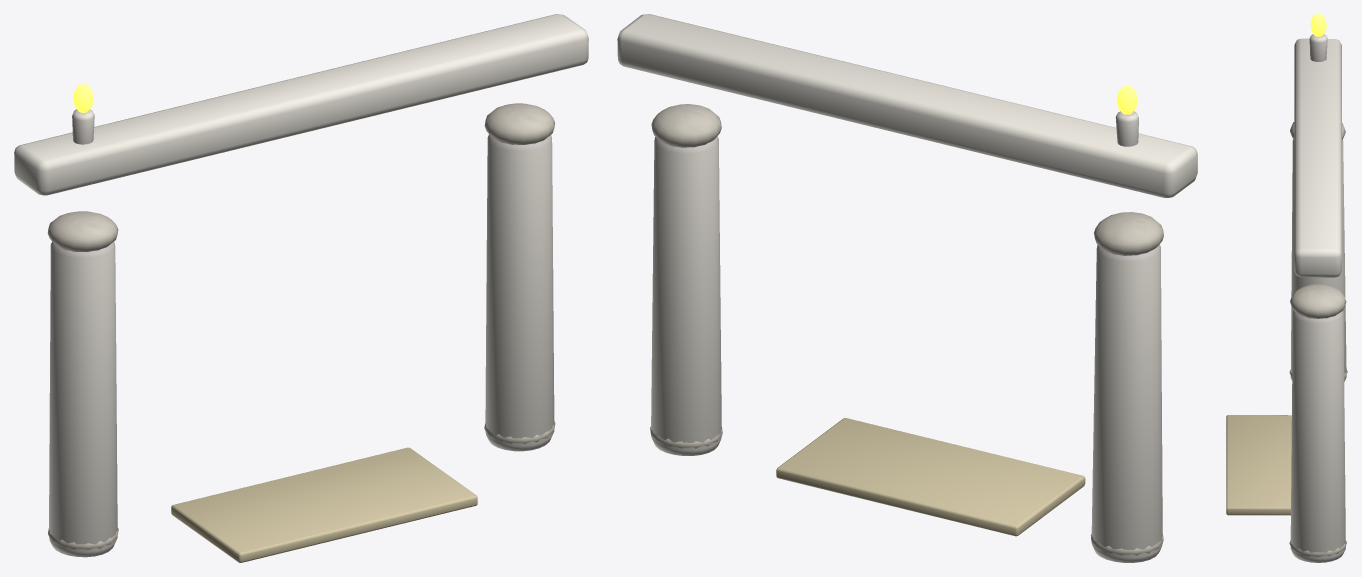
3 renders of one model, left to right at view 1: azimuth 30°, elevation 25°; view 2: azimuth 150°, elevation 25°; view 3: azimuth 270°, elevation 25°, orthographic. The views are drawn at different scales.
Visible parts, largest first — view 1: gate_bbc5a5d6; view 2: gate_bbc5a5d6; view 3: gate_bbc5a5d6.
Boxes of the visible parts, x1,y1,x2,y2 form: gate_bbc5a5d6: (14,14,588,562); gate_bbc5a5d6: (617,14,1197,562); gate_bbc5a5d6: (1226,14,1347,562).
Bounding box in the file's own units: 5.54 × 4.43 × 1.32.
